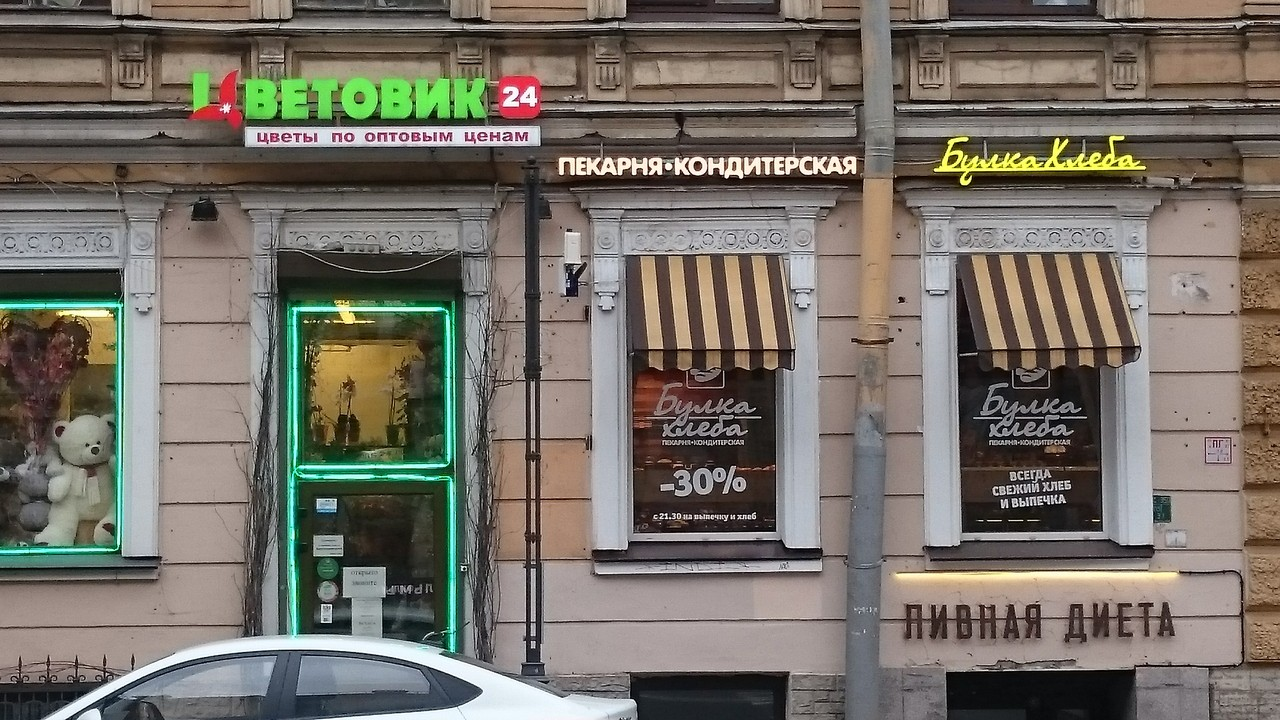signboard: (191, 64, 545, 149), (899, 595, 1180, 641), (934, 135, 1149, 190), (558, 152, 858, 178)
